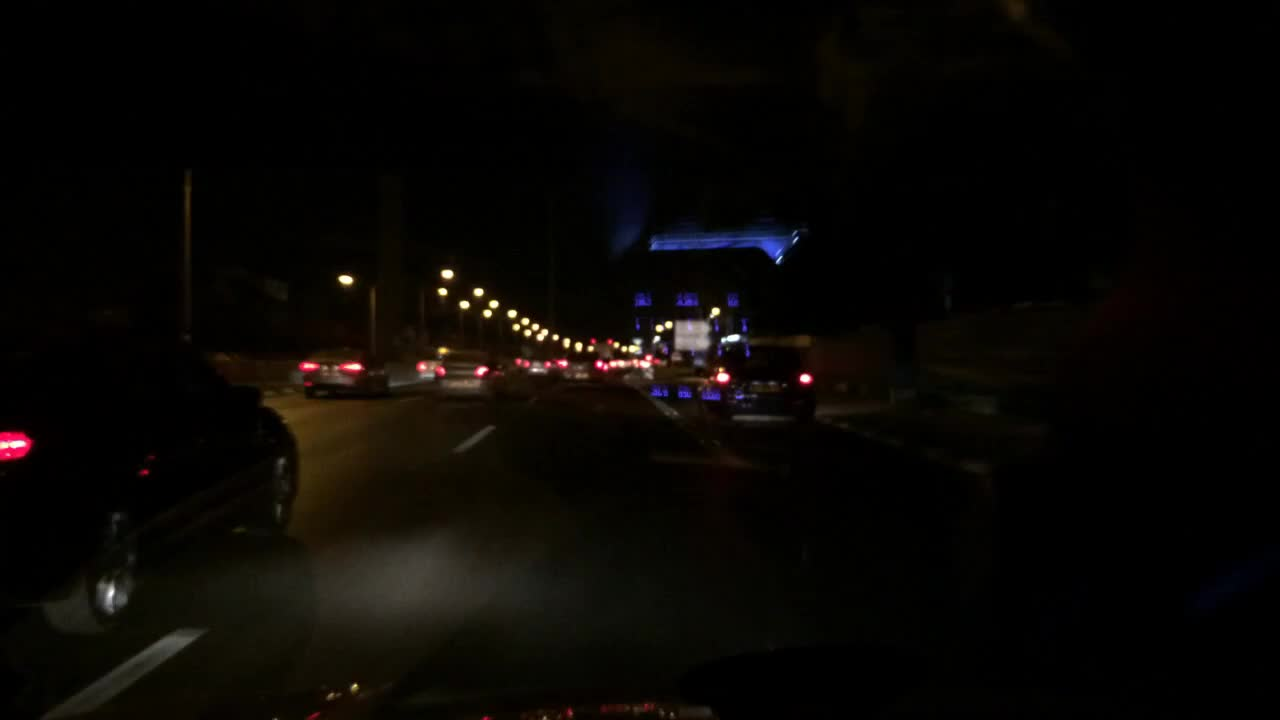car: (0, 320, 300, 638), (703, 335, 820, 425), (302, 345, 390, 396), (432, 350, 498, 396), (556, 347, 610, 381), (601, 356, 649, 389), (513, 344, 553, 377), (414, 344, 448, 381), (692, 338, 724, 375), (610, 354, 654, 366), (668, 344, 692, 363), (489, 357, 510, 377), (643, 348, 667, 365)
traffic light: (603, 333, 615, 344), (582, 335, 595, 344)
traffic sign: (676, 320, 709, 350), (673, 293, 695, 305), (631, 292, 649, 305), (725, 296, 739, 305)
